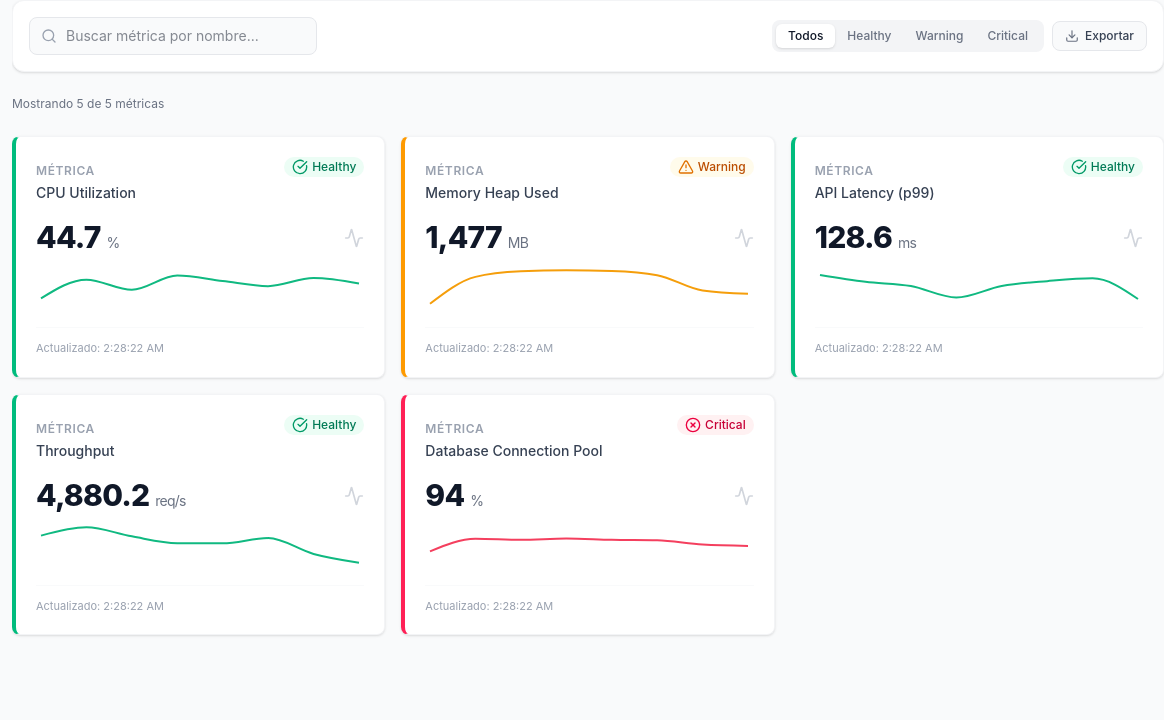
Test case: MetricsGrid Integration › filtra las métricas por texto de búsqueda
Expected: the heading "CPU Utilization" is shown, top-left (36, 183), bottom-right (136, 203)
Type "CPU" into the field with placeholder "Buscar métrica por nombre..." at [173, 36], box top-left (29, 17), bottom-right (317, 55)
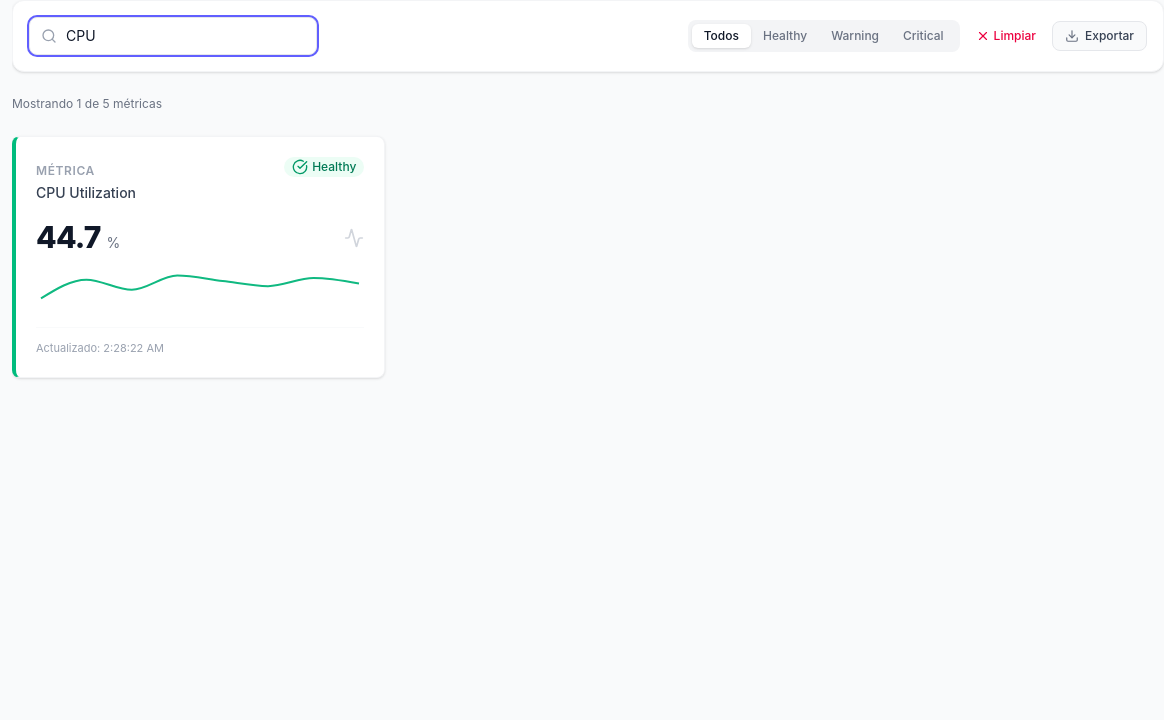
Expected: the heading "CPU Utilization" is shown, top-left (36, 183), bottom-right (136, 203)
Expected: the heading "Memory Heap Used" is gone
Expected: the text "Mostrando 1 de 5 métricas" is shown, top-left (12, 96), bottom-right (162, 112)
